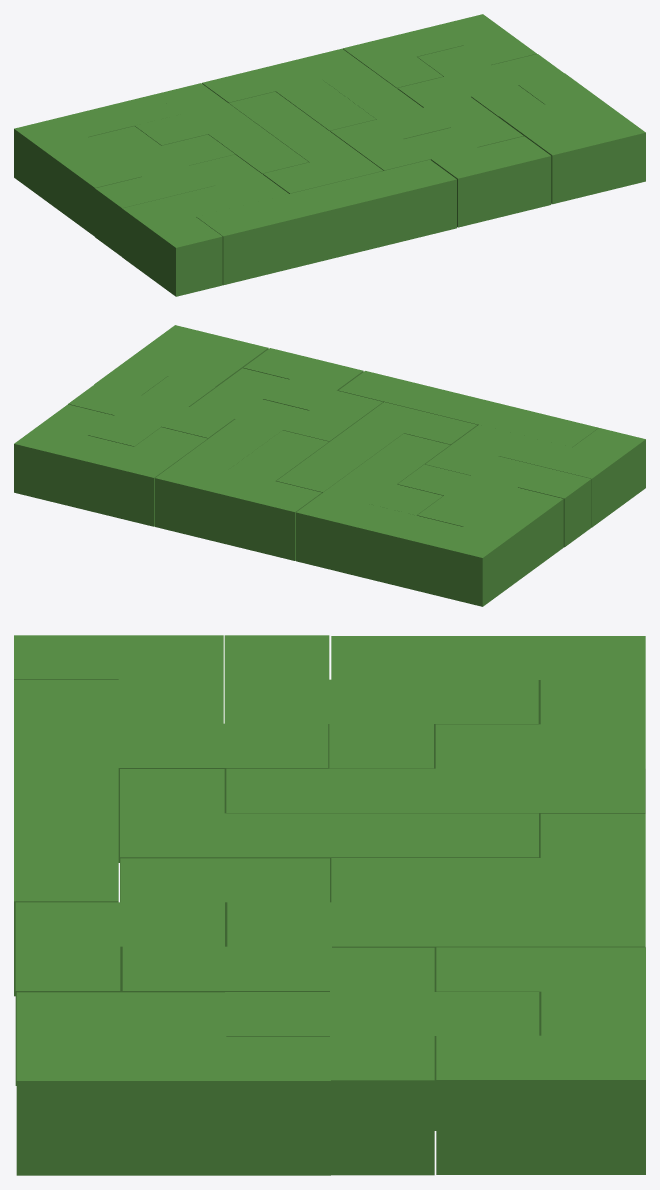
The picture shows the model from 3 angles, top to bottom: view 1: azimuth 30°, elevation 25°; view 2: azimuth 150°, elevation 25°; view 3: azimuth 270°, elevation 25°; orthographic projection. The views are drawn at different scales.
Visible parts, largest first — view 1: cube_I, cube_Z, cube_W, cube_P, cube_V, cube_F, cube_C, cube_T, cube_L, cube_Y, cube_X, cube_N; view 2: cube_V, cube_T, cube_C, cube_Z, cube_Y, cube_F, cube_W, cube_X, cube_I, cube_L, cube_P, cube_N; view 3: cube_P, cube_C, cube_X, cube_N, cube_W, cube_Y, cube_Z, cube_L, cube_F, cube_T, cube_I, cube_V.
Part boxes in pixels (<box>): cube_I: <box>196,159,456,285</box>; cube_Z: <box>122,154,288,296</box>; cube_W: <box>330,119,551,227</box>; cube_P: <box>498,73,645,204</box>; cube_V: <box>14,94,180,236</box>; cube_F: <box>88,126,235,256</box>; cube_C: <box>342,14,536,88</box>; cube_T: <box>202,48,376,131</box>; cube_L: <box>229,91,383,193</box>; cube_Y: <box>135,83,308,174</box>; cube_X: <box>397,45,564,116</box>; cube_N: <box>323,68,523,147</box>; cube_V: <box>342,487,563,606</box>; cube_T: <box>155,430,328,560</box>; cube_C: <box>14,404,207,526</box>; cube_Z: <box>425,425,645,527</box>; cube_Y: <box>296,433,450,572</box>; cube_F: <box>397,456,591,547</box>; cube_W: <box>243,348,383,441</box>; cube_X: <box>68,376,234,446</box>; cube_I: <box>338,371,598,447</box>; cube_L: <box>276,402,477,492</box>; cube_P: <box>94,325,268,395</box>; cube_N: <box>182,368,308,469</box>; cube_P: <box>16,992,330,1175</box>; cube_C: <box>436,947,645,1174</box>; cube_X: <box>225,947,539,1175</box>; cube_N: <box>122,902,541,992</box>; cube_W: <box>15,858,329,1085</box>; cube_Y: <box>226,724,645,857</box>; cube_Z: <box>14,635,328,862</box>; cube_L: <box>120,769,538,902</box>; cube_F: <box>224,635,538,768</box>; cube_T: <box>331,813,645,947</box>; cube_I: <box>14,680,118,996</box>; cube_V: <box>331,636,645,813</box>.
Bounding box in the file's own units: 101 × 60.33 × 10.
